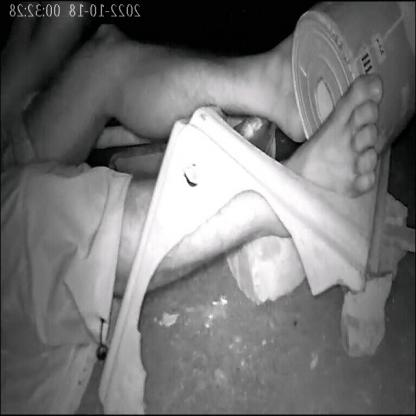leg: (38, 16, 308, 155), (285, 64, 394, 200)
